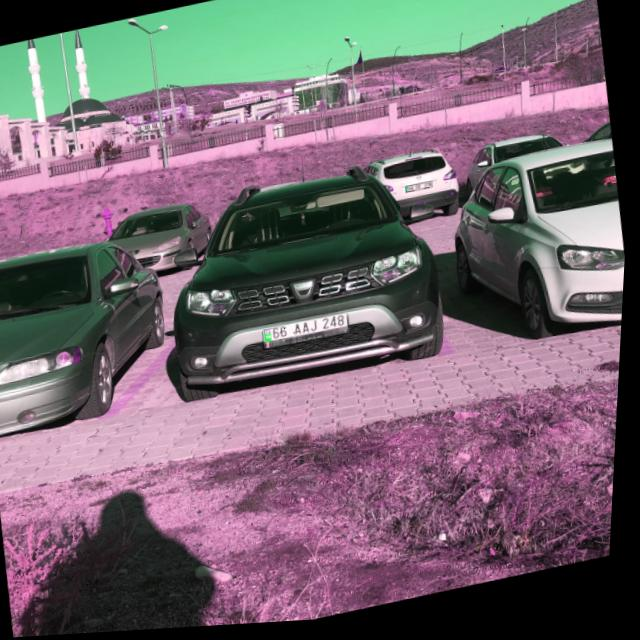license_plate: (266, 318, 353, 351)
